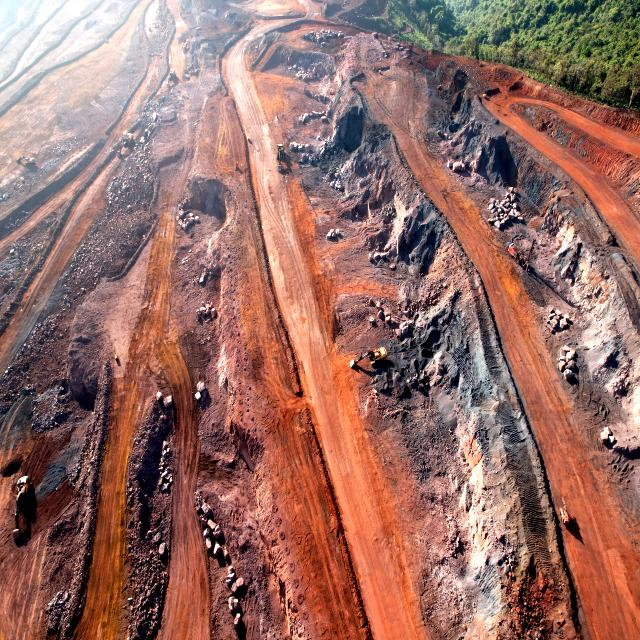Blast rig: (510, 239, 534, 272)
Excavator: (12, 473, 34, 542), (350, 344, 391, 370), (117, 131, 133, 158), (276, 144, 286, 171), (17, 154, 35, 168), (166, 68, 177, 89)
